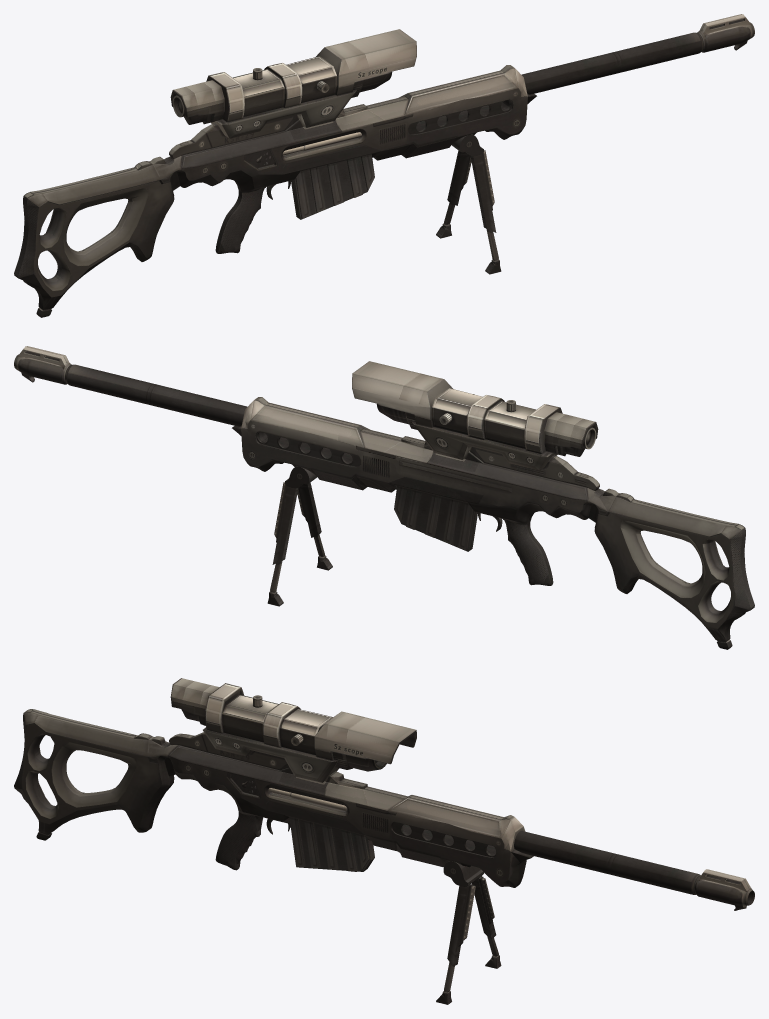
The model's file is ksr-29-sniper-rifle.fbx.
3 views of the same model, one above another, from view 1: azimuth 30°, elevation 25°; view 2: azimuth 150°, elevation 25°; view 3: azimuth 330°, elevation 25° (orthographic).
Parts seen in each view (by area): view 1: 3DSMesh_0_4, 3DSMesh_2_6, 3DSMesh_3_7, 3DSMesh_1_5; view 2: 3DSMesh_0_4, 3DSMesh_2_6, 3DSMesh_3_7, 3DSMesh_1_5; view 3: 3DSMesh_0_4, 3DSMesh_2_6, 3DSMesh_3_7, 3DSMesh_1_5.
Boxes of the visible parts, x1=… form: 3DSMesh_0_4: x1=14, y1=14, x2=754, y2=317; 3DSMesh_2_6: x1=170, y1=29, x2=416, y2=138; 3DSMesh_3_7: x1=291, y1=154, x2=374, y2=219; 3DSMesh_1_5: x1=436, y1=134, x2=501, y2=274; 3DSMesh_0_4: x1=14, y1=346, x2=754, y2=649; 3DSMesh_2_6: x1=352, y1=361, x2=598, y2=470; 3DSMesh_3_7: x1=394, y1=486, x2=477, y2=551; 3DSMesh_1_5: x1=267, y1=466, x2=332, y2=606; 3DSMesh_0_4: x1=14, y1=709, x2=754, y2=910; 3DSMesh_2_6: x1=170, y1=678, x2=416, y2=782; 3DSMesh_3_7: x1=289, y1=817, x2=374, y2=871; 3DSMesh_1_5: x1=436, y1=861, x2=501, y2=1004.
Size of the model in its own units: 0.7592 by 0.2321 by 0.0957.
Materials: 1 (1 with a texture image).
